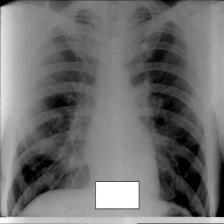tuberculosis: (3, 4, 215, 218)
